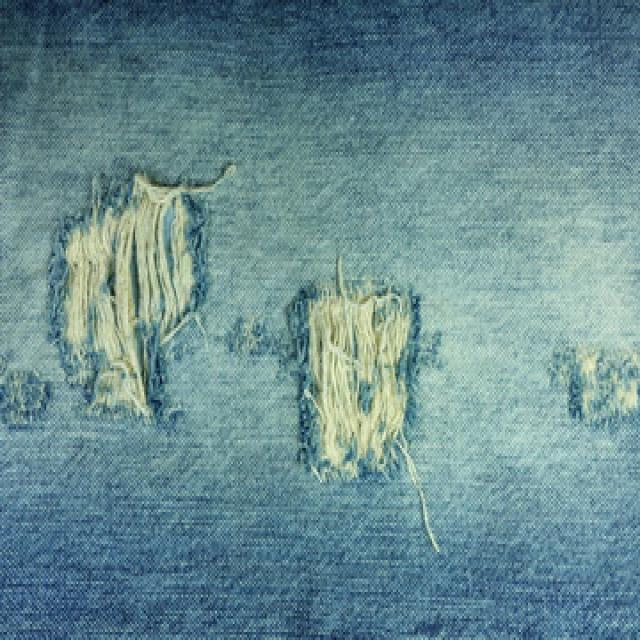Hole: (47, 172, 221, 422), (288, 272, 417, 482), (551, 346, 640, 428), (0, 372, 48, 430)
